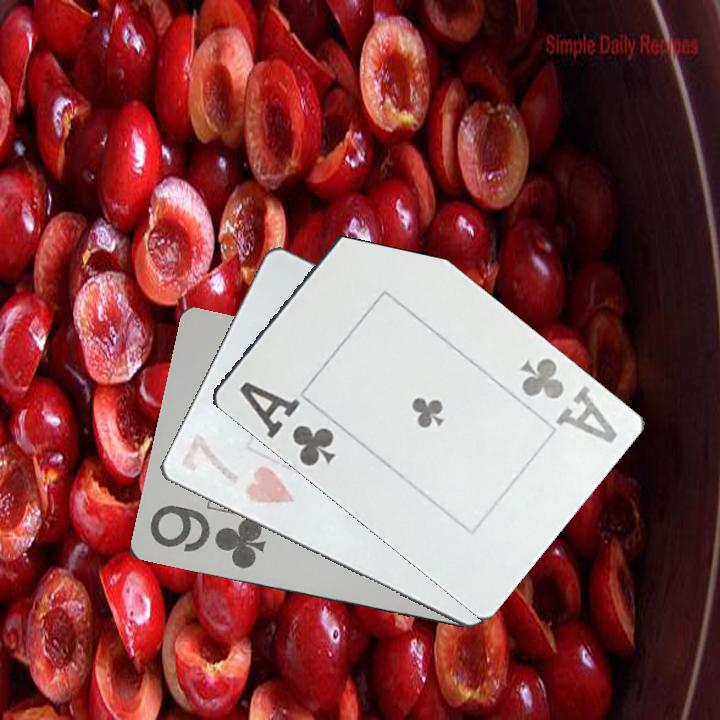7h: (176, 429, 297, 507)
9c: (145, 502, 269, 572)
Ac: (235, 378, 338, 473), (515, 354, 620, 447)
